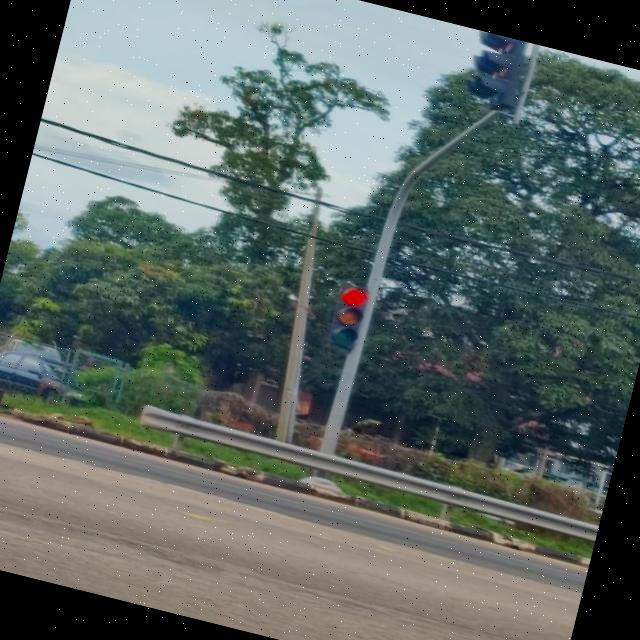red_light: (322, 282, 368, 350)
